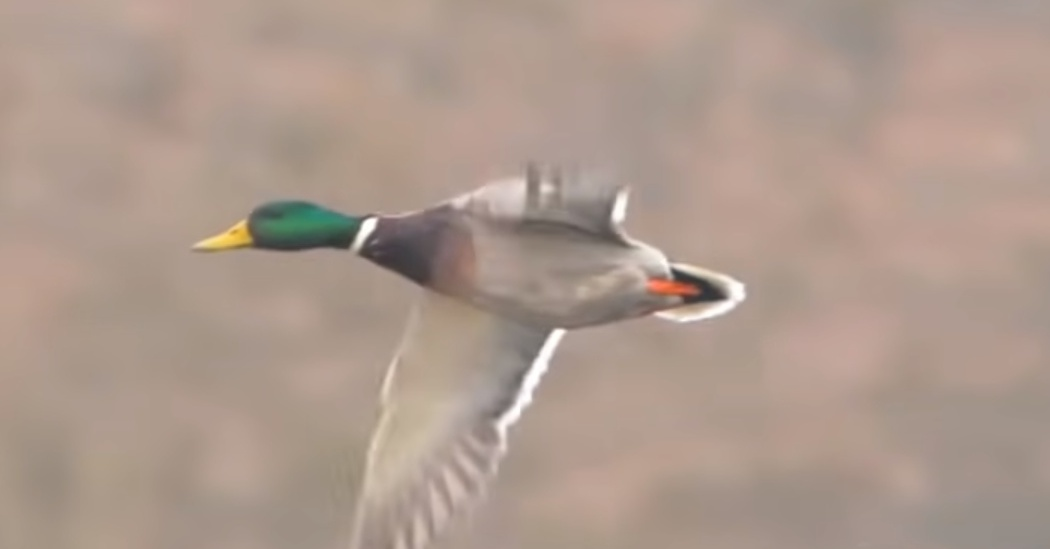bird: (193, 169, 749, 549)
